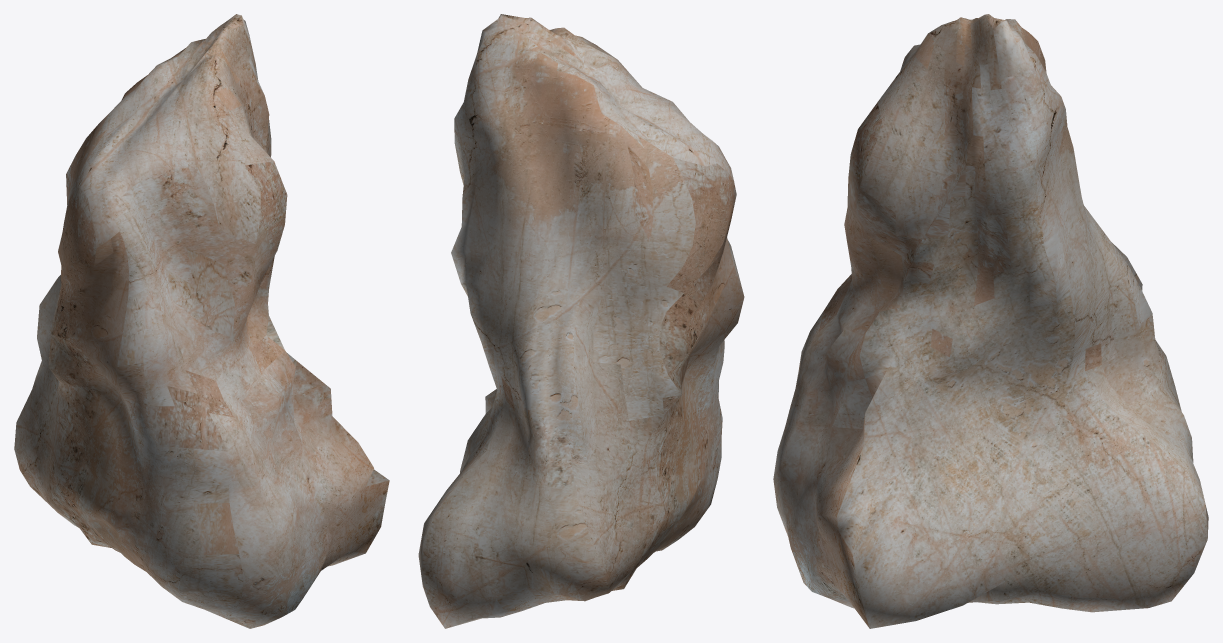
The model's file is sANDmOUNTAINS 5.fbx.
The picture shows the model from 3 angles, left to right: view 1: azimuth 30°, elevation 25°; view 2: azimuth 150°, elevation 25°; view 3: azimuth 270°, elevation 25°; orthographic projection. The views are drawn at different scales.
Visible parts, largest first — view 1: Landscape.001; view 2: Landscape.001; view 3: Landscape.001.
Part boxes in pixels (x1=…): Landscape.001: x1=14, y1=14, x2=389, y2=628; Landscape.001: x1=418, y1=14, x2=744, y2=628; Landscape.001: x1=773, y1=14, x2=1208, y2=628.
Bounding box in the file's own units: 157 × 297 × 194.
